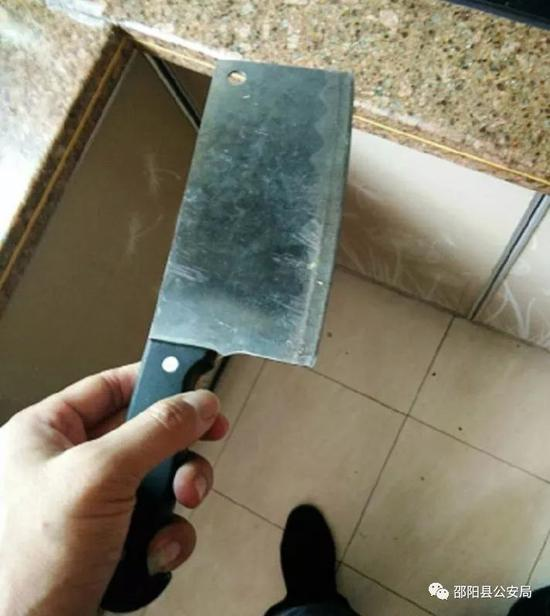knief: (167, 30, 361, 608)
